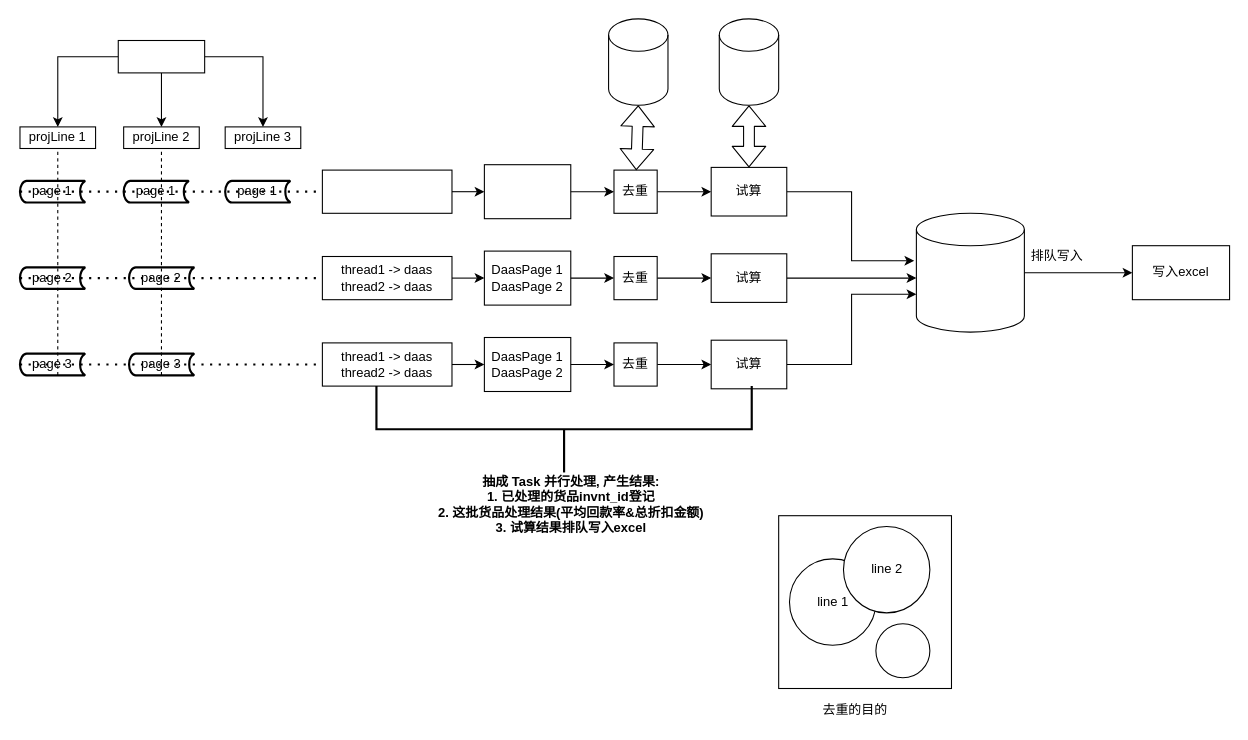
Some shapes in this 1248 by 740 pixel diagram are drawn without their labels. Each missing label, with the centre of its shape:
"DaasPage 1 DaasPage 2 DaasPage 3" belongs at point (527, 191).
"line 3" belongs at point (902, 650).
"Project" belongs at point (161, 56).
"queue" belongs at point (969, 272).
"thread1 -> daas thread2 -> daas thread3 -> daas" belongs at point (386, 191).
"已处理货品Id 集合" belongs at point (638, 61).
"汇集试算结果" belongs at point (748, 61).
